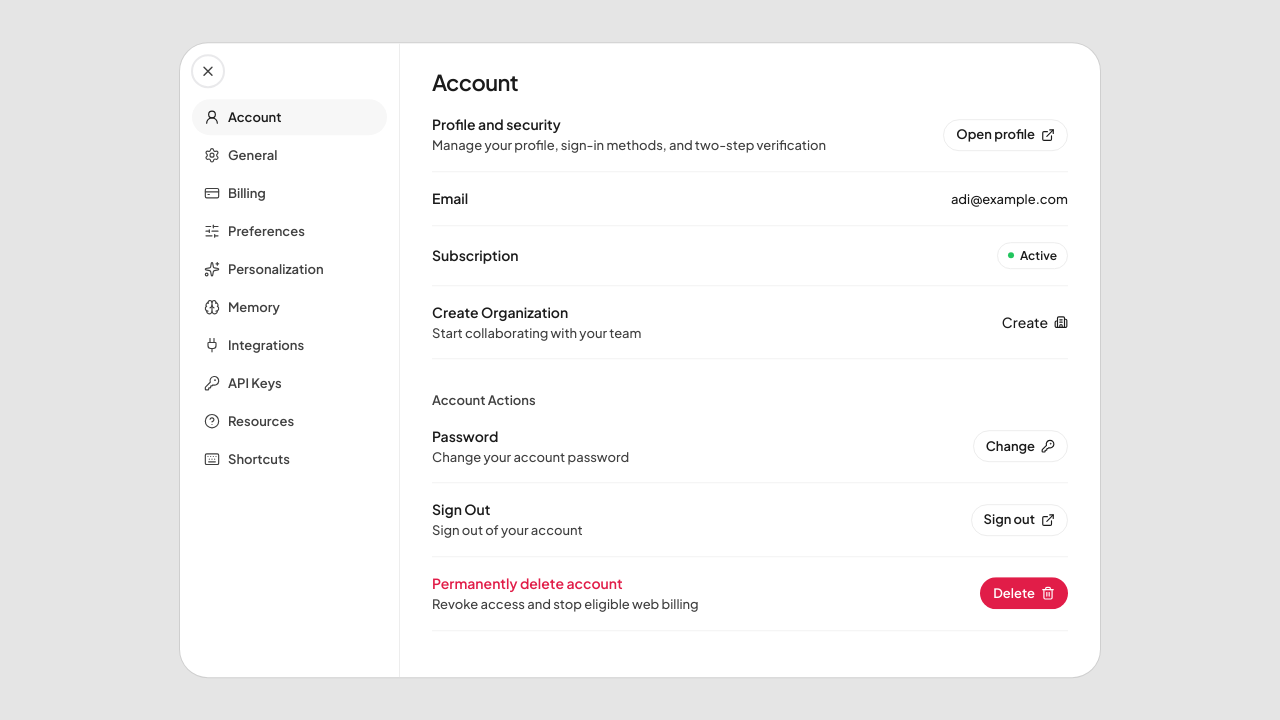
Test case: SettingsDialog › opens Magica account settings and the API keys manager
Expected: the heading "Account" is shown, [432,68,518,96]
Expected: the text "adi@example.com" is shown, [951,191,1068,207]
Click the button "API Keys".
click(290, 383)  # box [192,365,387,401]
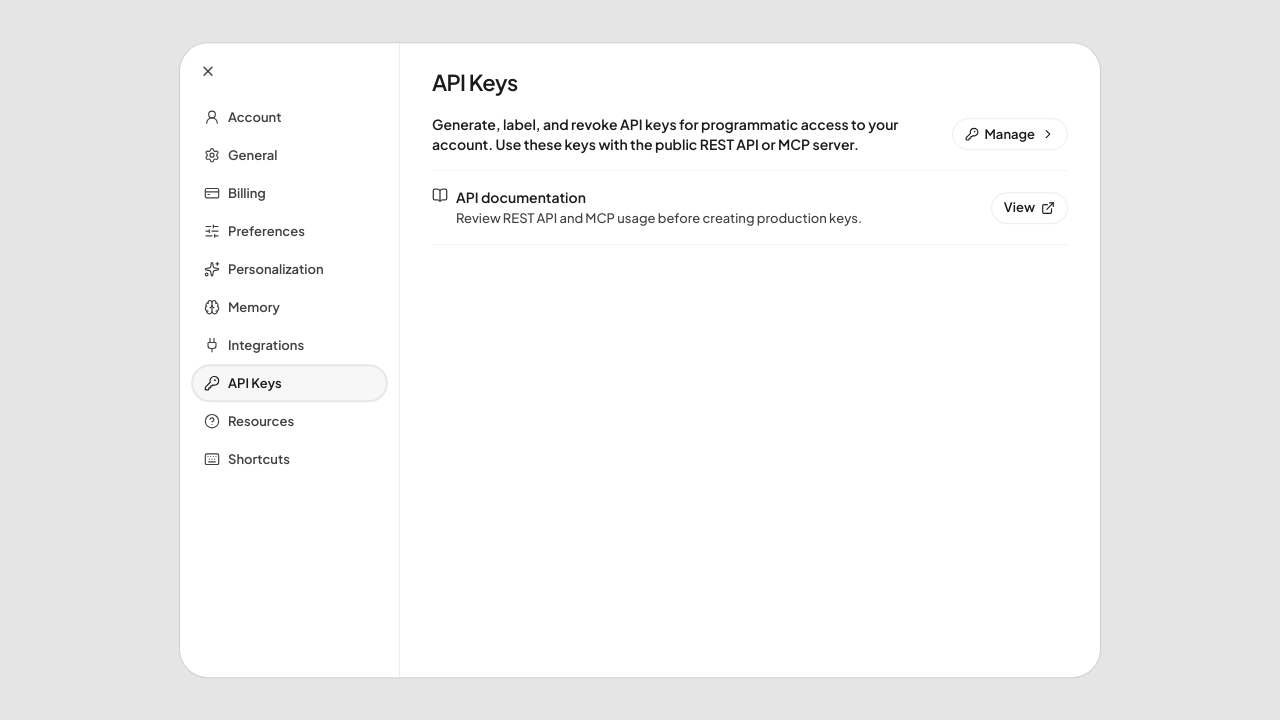
Expected: the heading "API Keys" is shown, [432,68,518,96]
Click the button "Manage".
click(1010, 135)  # box [952,119,1068,151]
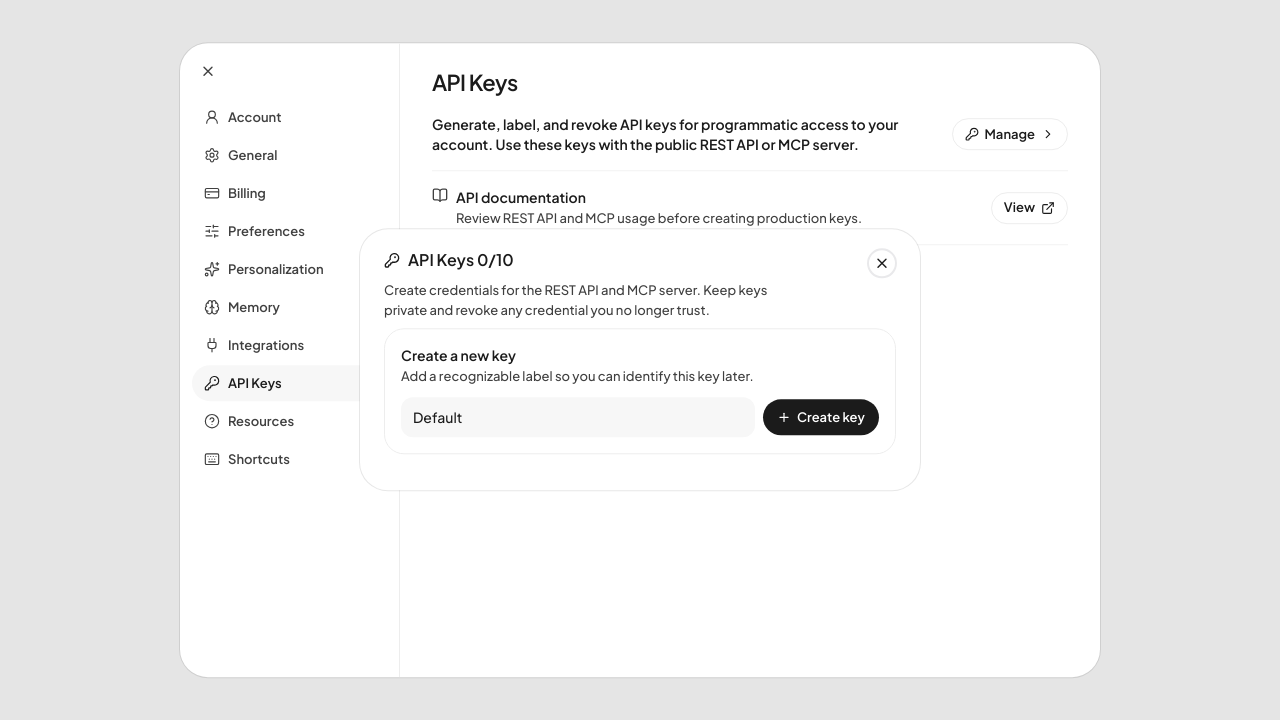
Expected: the field named "Key name" is shown, [401,398,755,438]
Expected: the button "Create key" is shown, [763,400,879,436]
Click the button named "Close".
click(882, 263)  # box [868,249,896,277]
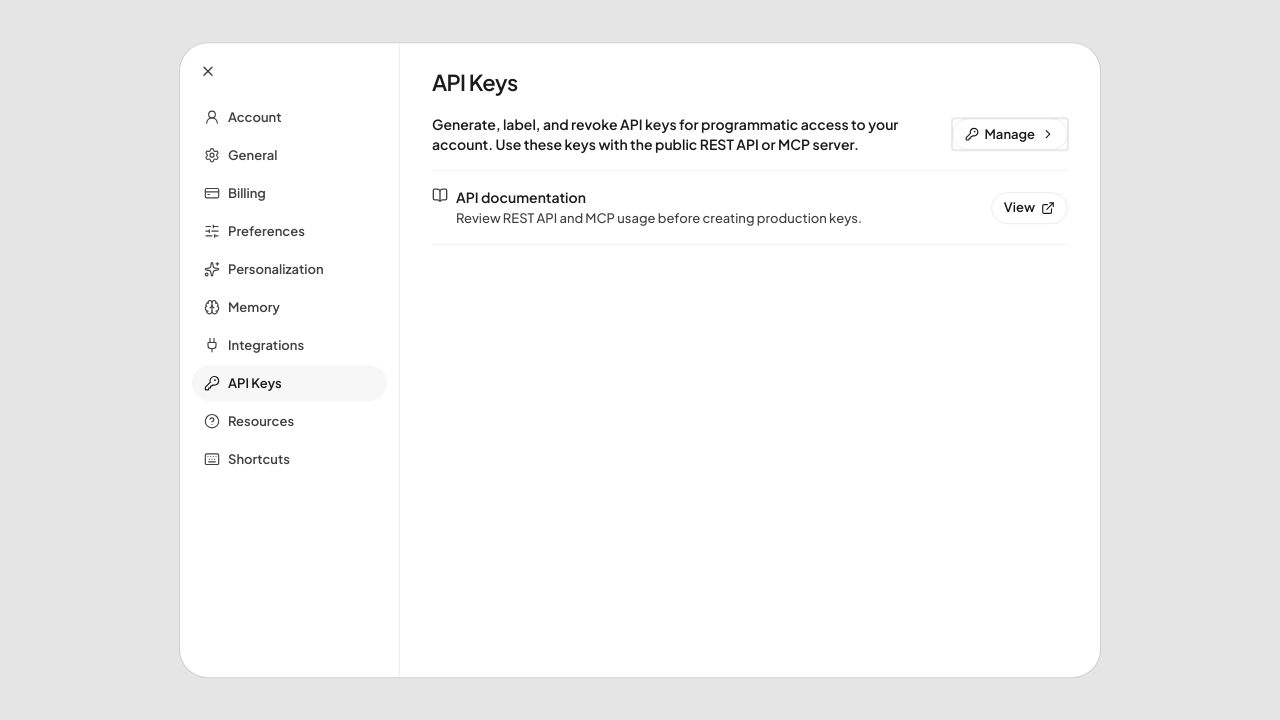
Click the button "Preferences".
click(290, 231)  # box [192,213,387,249]
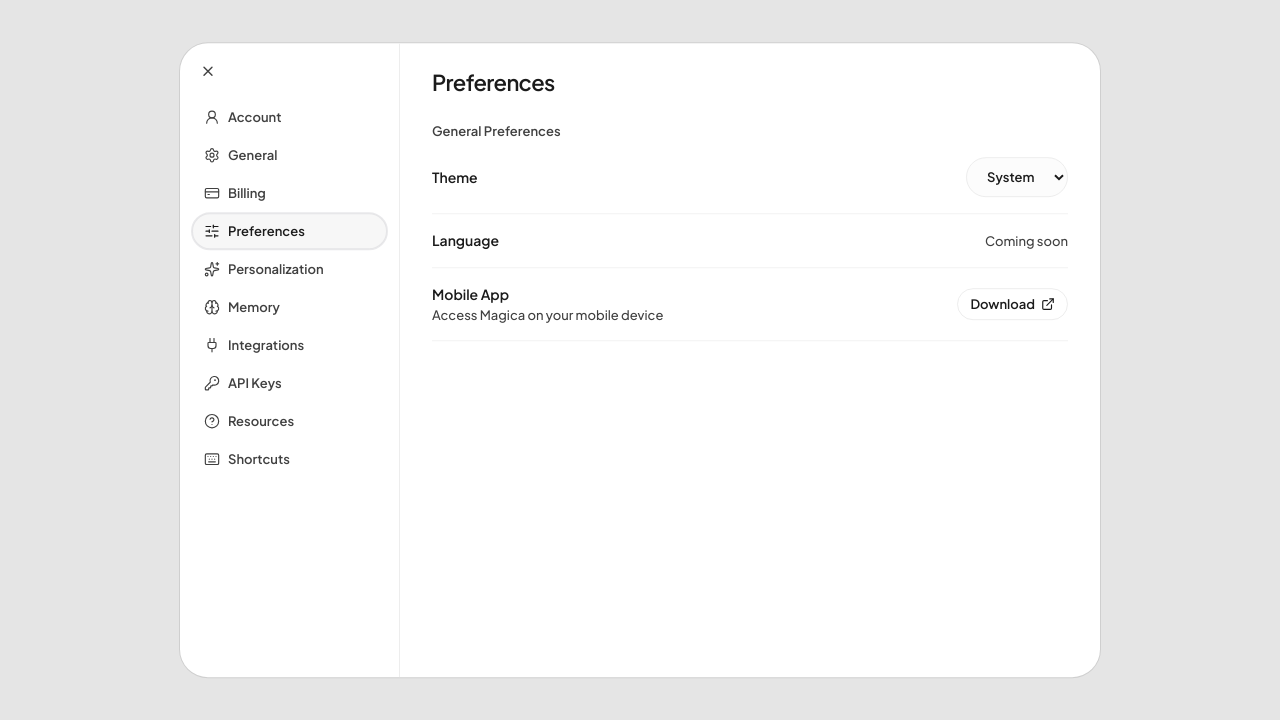
Expected: the heading "Preferences" is shown, [432,68,555,96]
Expected: the text "Theme" is shown, [432,167,478,187]
